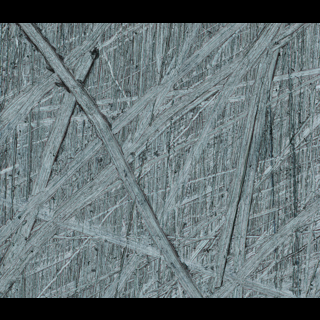d: (2, 23, 317, 297)
